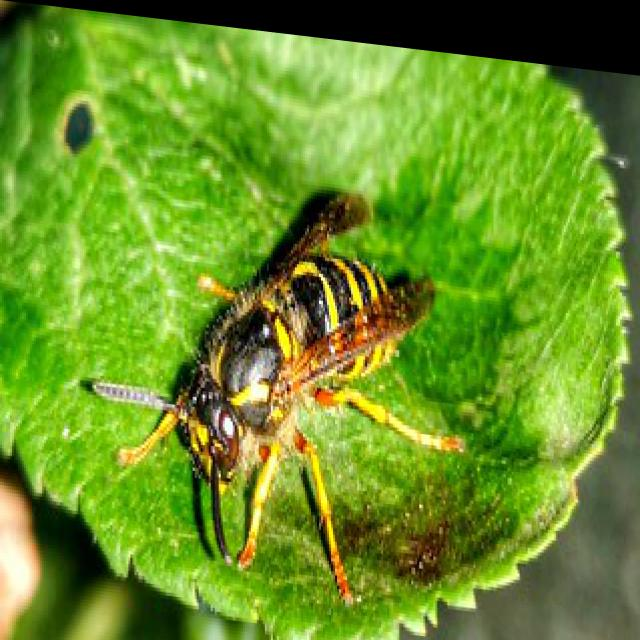Guepe: (90, 123, 479, 633)
